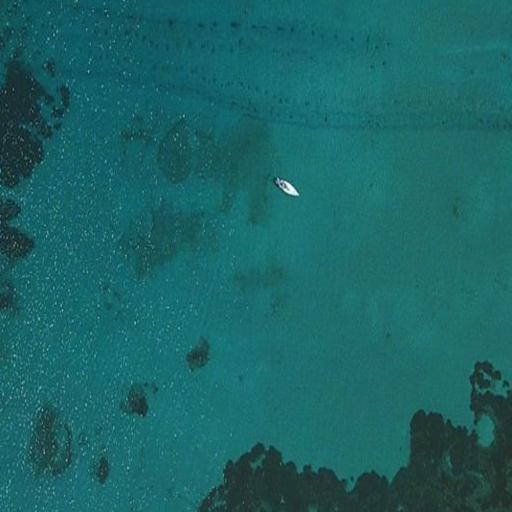ship: (271, 173, 303, 201)
